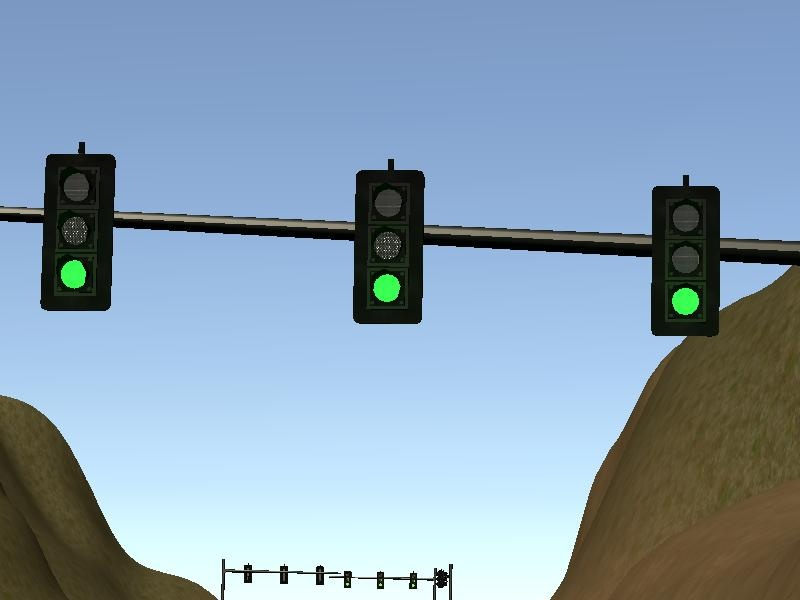GREEN: (41, 155, 116, 310), (351, 171, 426, 326), (651, 186, 720, 337)
